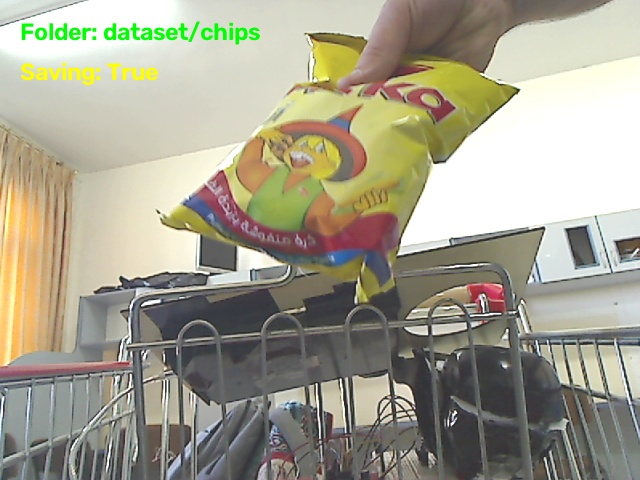chips: (161, 34, 516, 301)
